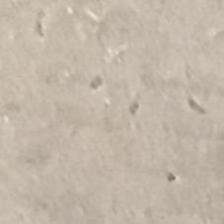Non_Crack: (5, 5, 224, 217)
